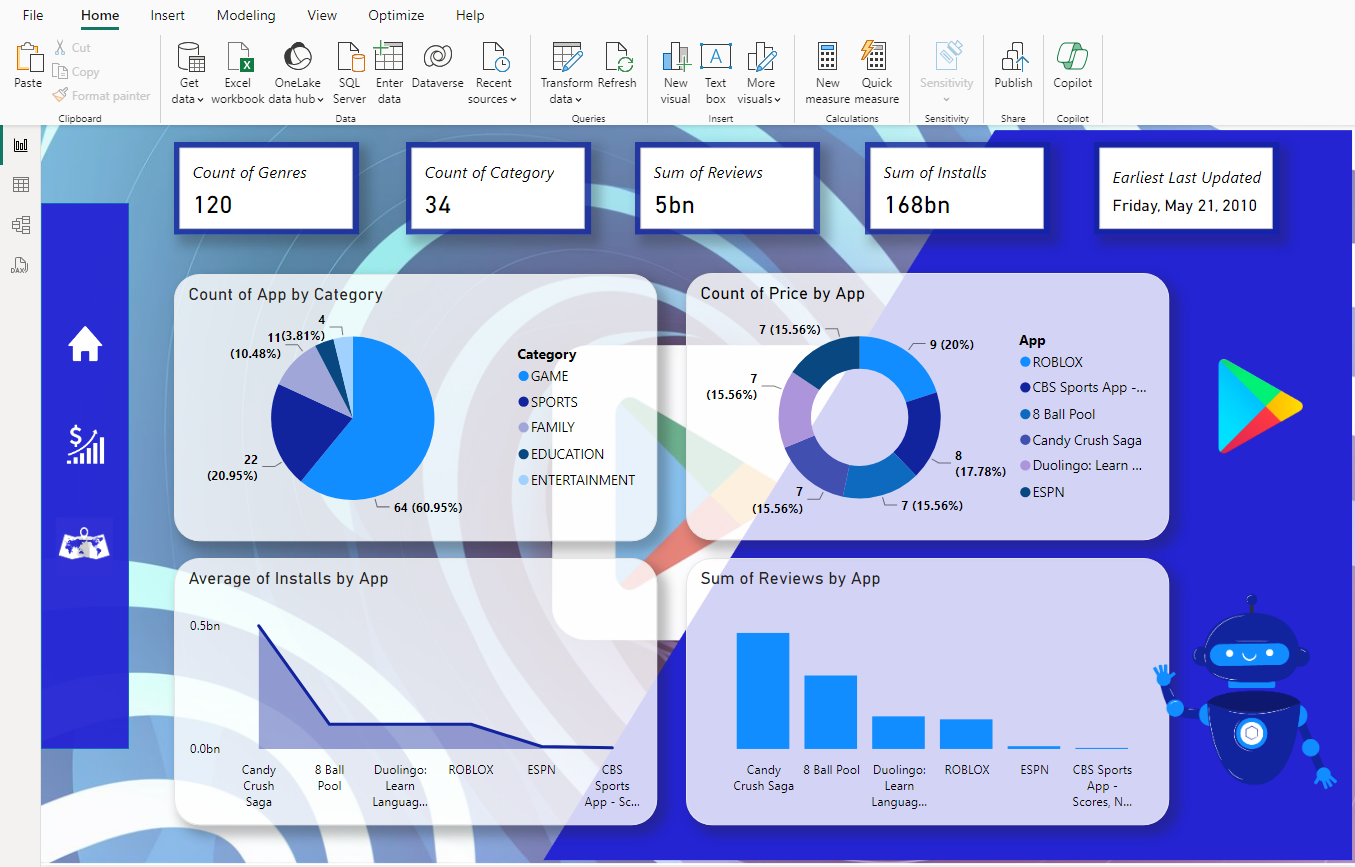

The page's visual inventory and layout, read from the dashboard file:
{"tool":"powerbi","page":{"name":"App insights ","canvas":[1280,720],"ordinal":1},"visuals":[{"type":"shape","box":[0,75.9,85.6,531.1],"z":0},{"type":"image","box":[16.5,190.6,52.5,43.8],"z":1000},{"type":"image","box":[8.8,285,68.1,50.6],"z":2000},{"type":"image","box":[4.9,376.4,74.9,66.1],"z":3000},{"type":"actionButton","box":[0,182.9,85.6,67.1],"z":4000},{"type":"actionButton","box":[0,278.2,85.6,68.1],"z":5000},{"type":"actionButton","box":[0,376.4,85.6,68.1],"z":6000},{"type":"image","box":[385.2,0,894.8,719.8],"z":7000},{"type":"lineStackedColumnComboChart","fields":{"Category":["googleplaystore.App"],"Y":["Sum(googleplaystore.Reviews)"]},"box":[627.4,421.2,469.8,259.7],"z":8000},{"type":"pieChart","fields":{"Category":["googleplaystore.Category"],"Y":["CountNonNull(googleplaystore.App)"]},"box":[129.4,144.9,469.8,259.7],"z":9000},{"type":"stackedAreaChart","fields":{"Category":["googleplaystore.App"],"Y":["Avg(googleplaystore.Installs)"]},"box":[129.4,421.2,469.8,259.7],"z":10000},{"type":"donutChart","fields":{"Category":["googleplaystore.App"],"Y":["CountNonNull(googleplaystore.Price)"]},"box":[627.4,144,469.8,259.7],"z":11000},{"type":"cardVisual","fields":{"Data":["Count(googleplaystore.Genres)"]},"box":[129.4,16.5,179.9,90.5],"z":12000},{"type":"cardVisual","fields":{"Data":["Count(googleplaystore.Category)"]},"box":[355,16.5,179.9,90.5],"z":13000},{"type":"cardVisual","fields":{"Data":["Sum(googleplaystore.Reviews)"]},"box":[577.8,16.5,179.9,90.5],"z":14000},{"type":"cardVisual","fields":{"Data":["Min(googleplaystore.Last Updated)"]},"box":[1024.2,16.5,179.9,90.5],"z":15000},{"type":"cardVisual","fields":{"Data":["Sum(googleplaystore.Installs)"]},"box":[801.5,16.5,179.9,90.5],"z":16000},{"type":"image","box":[1068.9,390,211.1,321.9],"z":17000},{"type":"image","box":[1114.7,213,137.1,121.6],"z":18000}]}

Visuals, with their boxes on the page's 1280x720 design canvas (x1, y1, x2, y2). These are canvas units, not pixel positions in the 1355x867 screenshot, which may show the page scaled, cropped or inside an application window:
shape: (x1=0, y1=76, x2=86, y2=607)
image: (x1=16, y1=191, x2=69, y2=234)
image: (x1=9, y1=285, x2=77, y2=336)
image: (x1=5, y1=376, x2=80, y2=442)
actionButton: (x1=0, y1=183, x2=86, y2=250)
actionButton: (x1=0, y1=278, x2=86, y2=346)
actionButton: (x1=0, y1=376, x2=86, y2=444)
image: (x1=385, y1=0, x2=1280, y2=720)
lineStackedColumnComboChart - googleplaystore.App x Sum(googleplaystore.Reviews): (x1=627, y1=421, x2=1097, y2=681)
pieChart - googleplaystore.Category x CountNonNull(googleplaystore.App): (x1=129, y1=145, x2=599, y2=405)
stackedAreaChart - googleplaystore.App x Avg(googleplaystore.Installs): (x1=129, y1=421, x2=599, y2=681)
donutChart - googleplaystore.App x CountNonNull(googleplaystore.Price): (x1=627, y1=144, x2=1097, y2=404)
cardVisual - Count(googleplaystore.Genres): (x1=129, y1=16, x2=309, y2=107)
cardVisual - Count(googleplaystore.Category): (x1=355, y1=16, x2=535, y2=107)
cardVisual - Sum(googleplaystore.Reviews): (x1=578, y1=16, x2=758, y2=107)
cardVisual - Min(googleplaystore.Last Updated): (x1=1024, y1=16, x2=1204, y2=107)
cardVisual - Sum(googleplaystore.Installs): (x1=802, y1=16, x2=981, y2=107)
image: (x1=1069, y1=390, x2=1280, y2=712)
image: (x1=1115, y1=213, x2=1252, y2=335)
